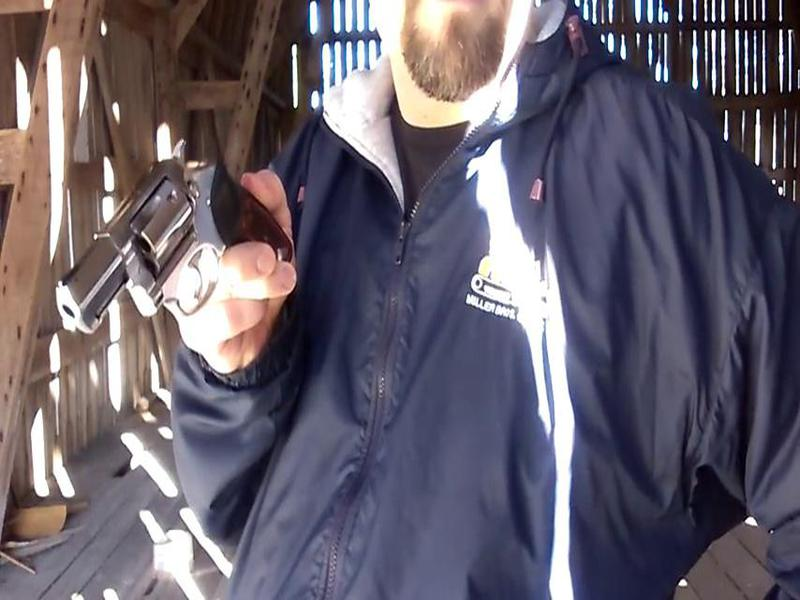Revolver: (7, 134, 313, 348)
